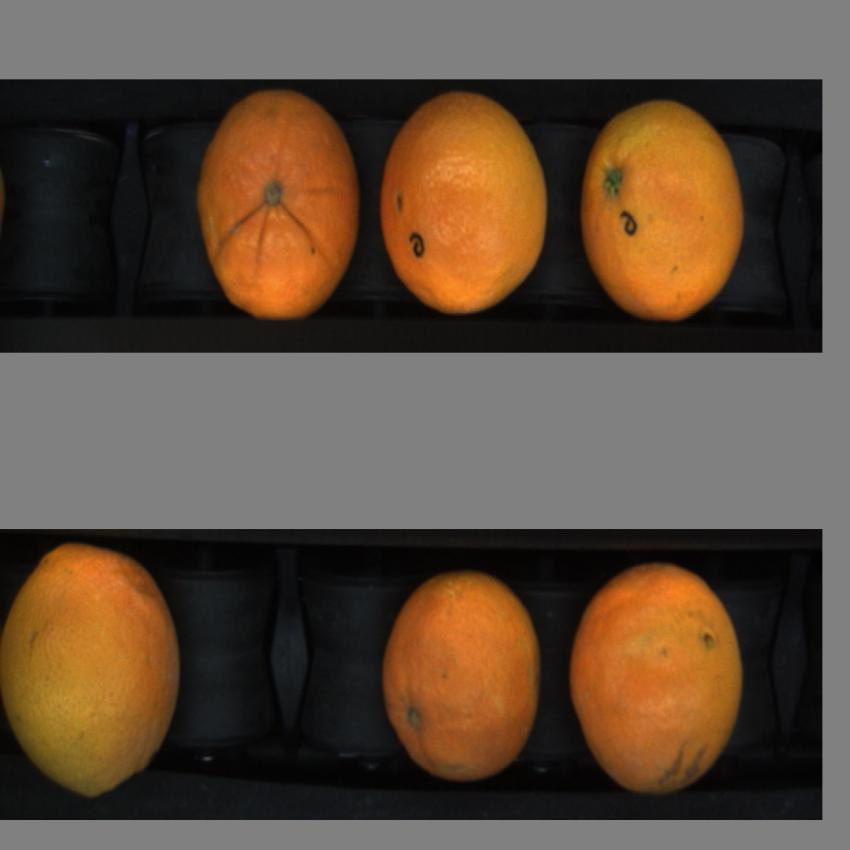Buen estado: (0, 536, 191, 803), (567, 547, 748, 802), (376, 84, 557, 325), (575, 87, 754, 330), (187, 82, 363, 324), (372, 554, 546, 782)
